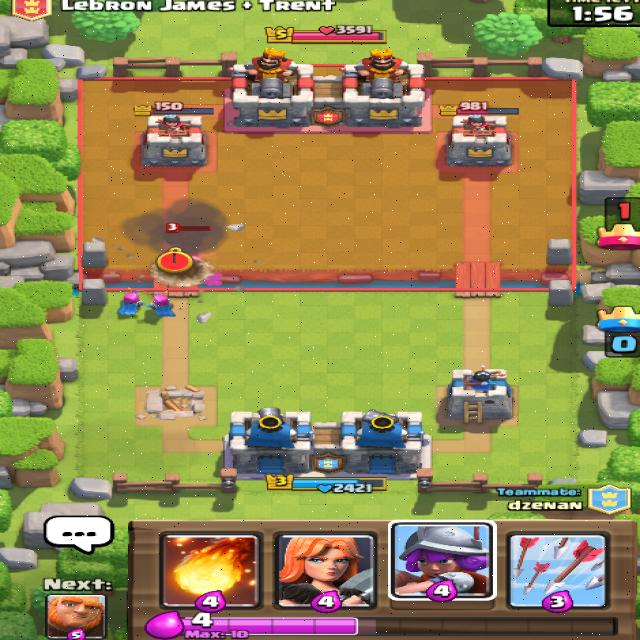Player-Archer: (113, 286, 144, 316), (146, 290, 177, 316)
